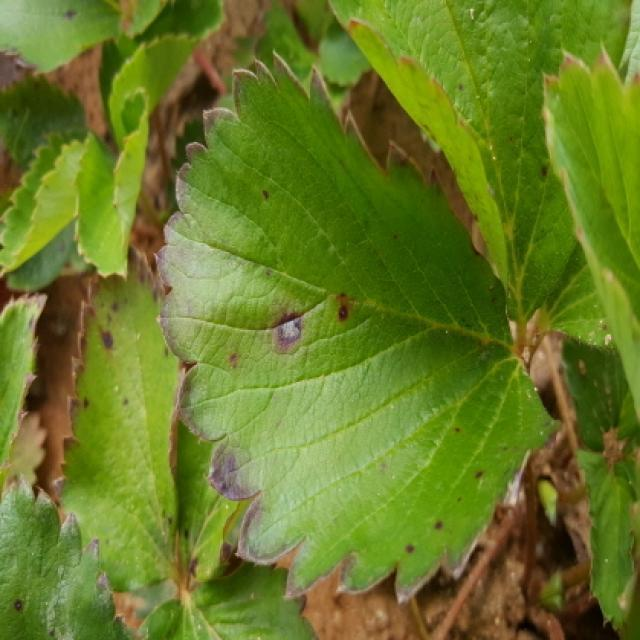Leaf Spot: (154, 50, 563, 606), (325, 0, 634, 324), (50, 243, 186, 592), (0, 470, 142, 638), (169, 417, 256, 589), (0, 291, 49, 474)
